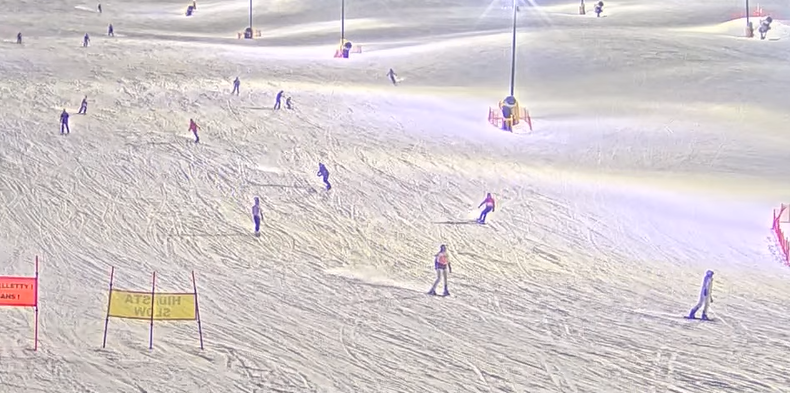skier: (428, 244, 457, 298)
snowboarder: (473, 192, 495, 225)
